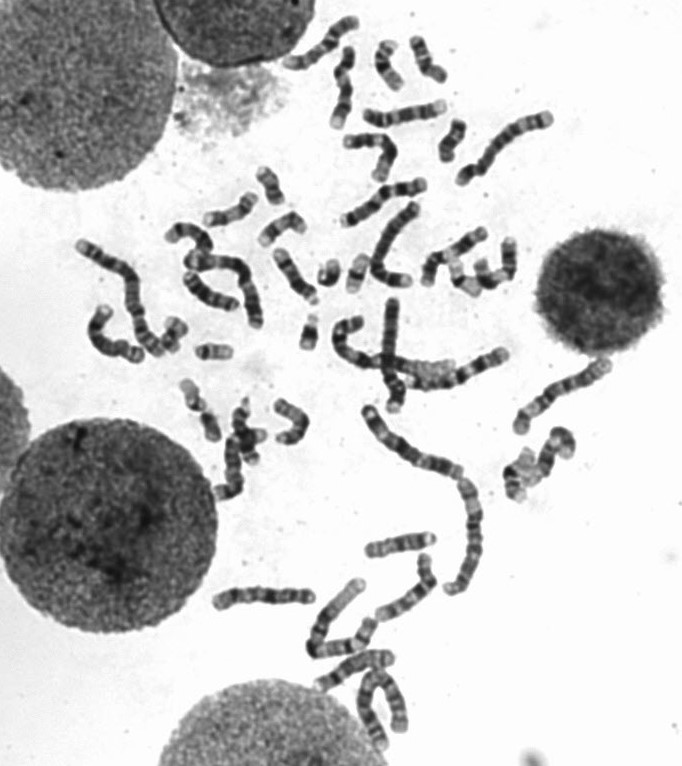chromosomes: (71, 232, 165, 365), (445, 104, 565, 194), (356, 396, 473, 482), (506, 351, 619, 440), (326, 311, 466, 381), (182, 245, 274, 334), (300, 569, 380, 659), (437, 472, 493, 600), (397, 339, 518, 395), (327, 173, 432, 235), (367, 550, 449, 627), (280, 9, 372, 76), (366, 196, 429, 293), (370, 291, 416, 420), (416, 218, 494, 290), (71, 299, 150, 367), (208, 422, 269, 508), (355, 667, 414, 754), (218, 394, 276, 476), (311, 646, 405, 695), (334, 128, 405, 192), (205, 577, 324, 614), (356, 521, 441, 567), (357, 91, 457, 129), (524, 422, 579, 491), (473, 227, 530, 293), (260, 388, 319, 451), (324, 36, 358, 137), (272, 246, 323, 312), (399, 30, 457, 87), (177, 268, 243, 317), (250, 208, 319, 253), (197, 185, 269, 228), (157, 218, 215, 259), (432, 112, 475, 167), (442, 252, 487, 304), (371, 29, 407, 94), (173, 374, 221, 415), (159, 308, 200, 356), (251, 158, 291, 207), (193, 338, 246, 373), (500, 448, 533, 504), (344, 247, 379, 299), (296, 307, 322, 357), (195, 405, 227, 442), (312, 258, 345, 289)
